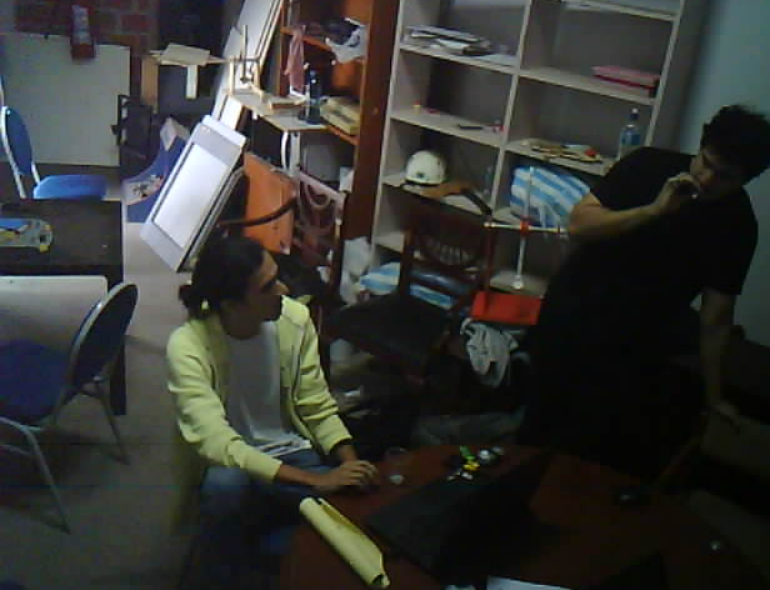person: (510, 85, 770, 481), (153, 228, 405, 590)
